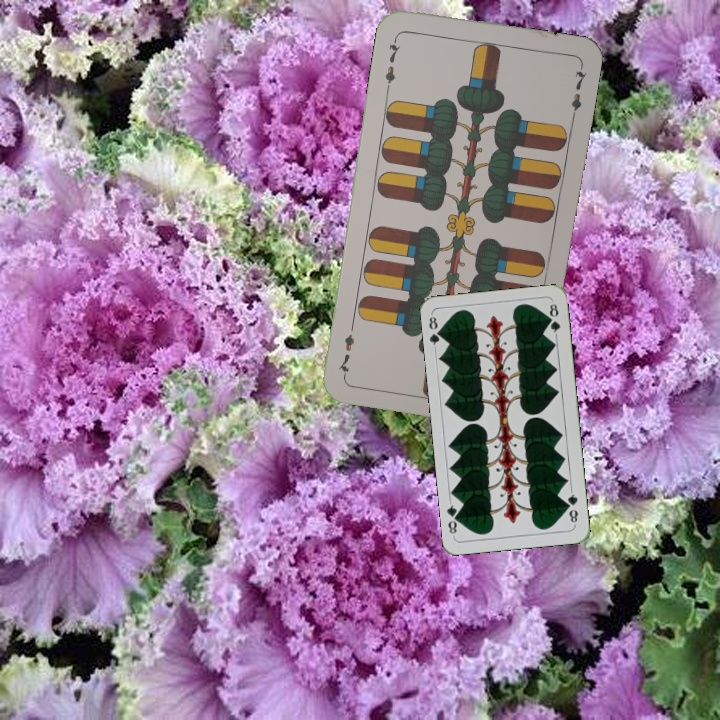E7: (380, 32, 403, 91)
G8: (425, 311, 445, 351), (563, 487, 581, 527)
